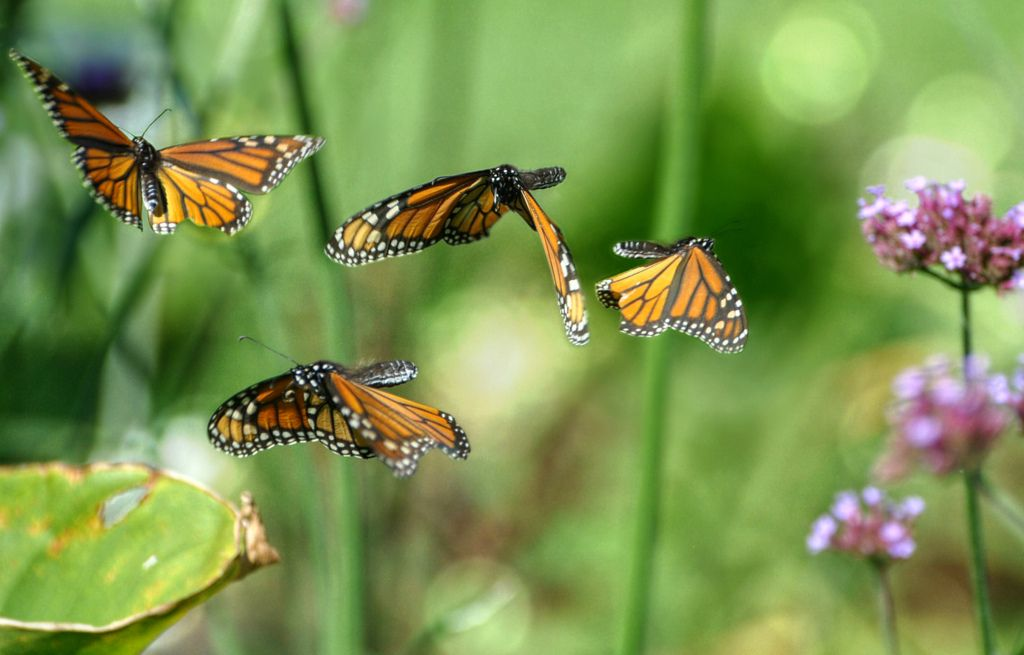insect: (6, 43, 327, 240), (321, 163, 595, 349), (204, 356, 471, 479), (592, 219, 751, 354)
